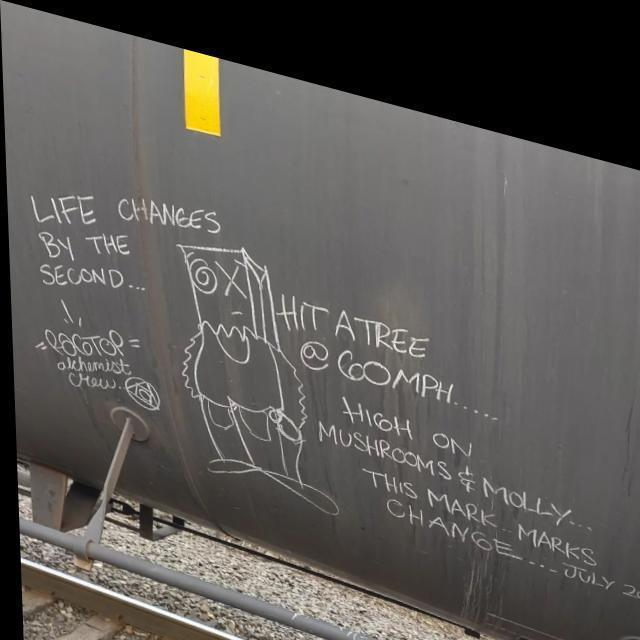nonspitting: (31, 193, 640, 599)
